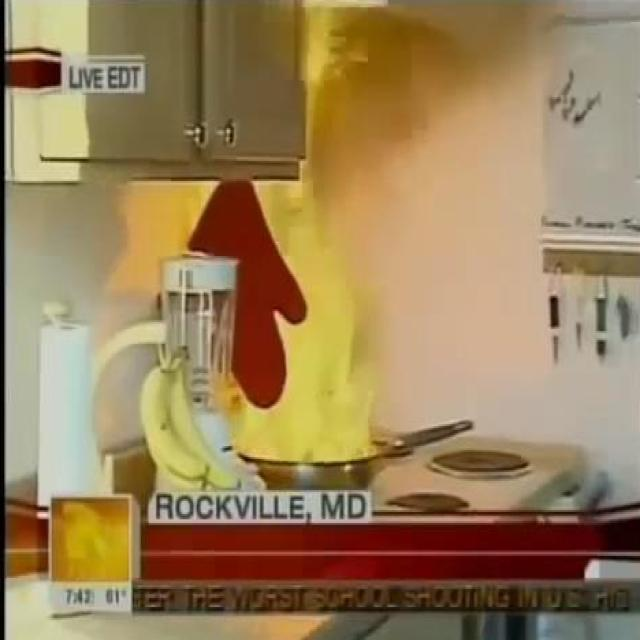smoke: (219, 9, 377, 470)
